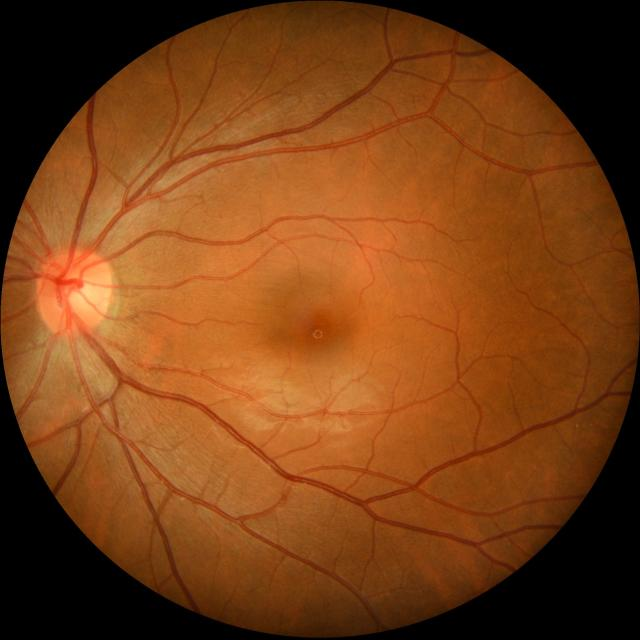OC: (62, 276, 95, 314)
OD: (36, 247, 114, 337)
